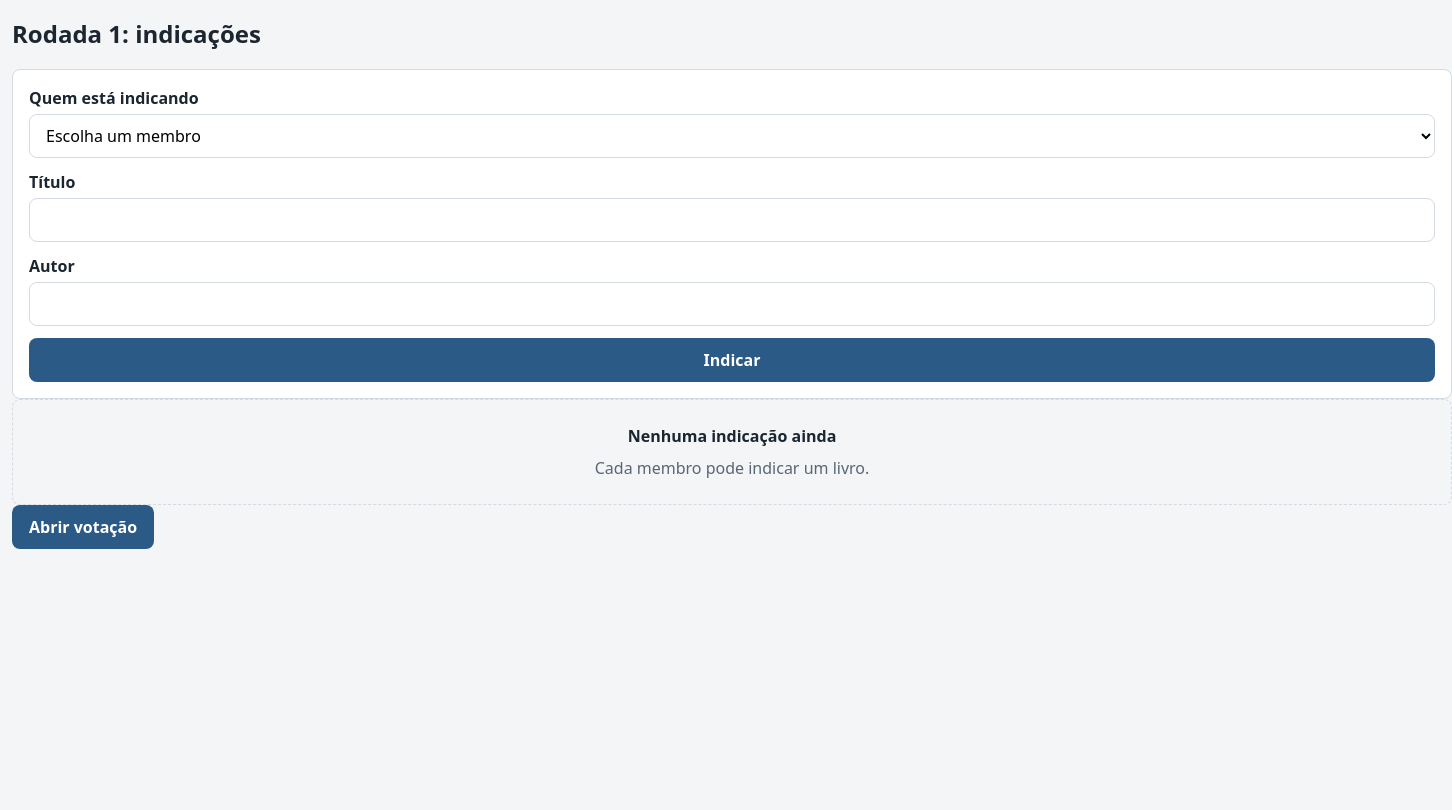
Scenario: NominationStep › pede para escolher quem está indicando
Step 1. Type "Dom Casmurro" into the field labelled "Título" → point(732, 220), box [29, 198, 1435, 242]
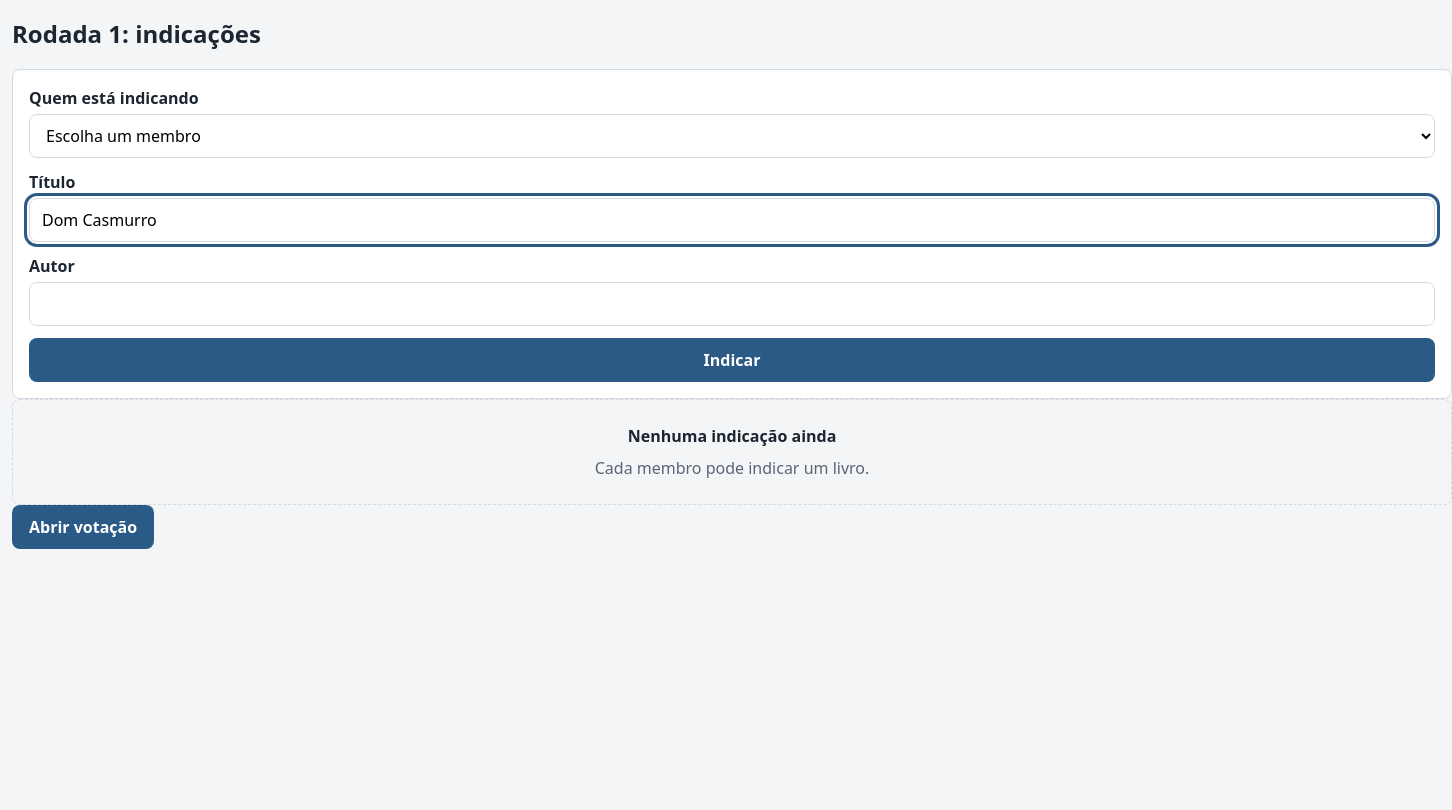
Step 2. Type "Machado de Assis" into the field labelled "Autor" → point(732, 304), box [29, 282, 1435, 326]
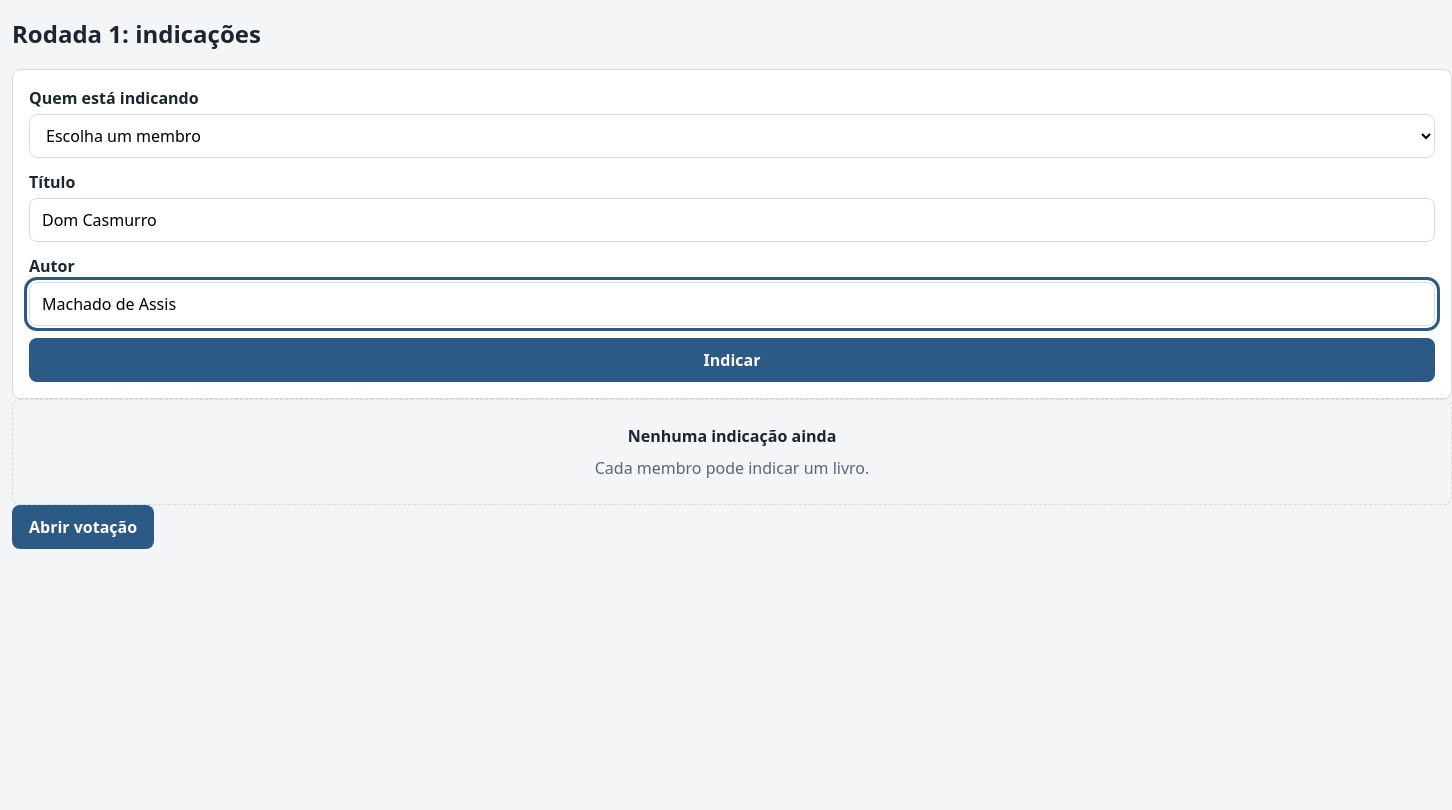
Step 3. Click the button "Indicar" → point(732, 360), box [29, 338, 1435, 382]
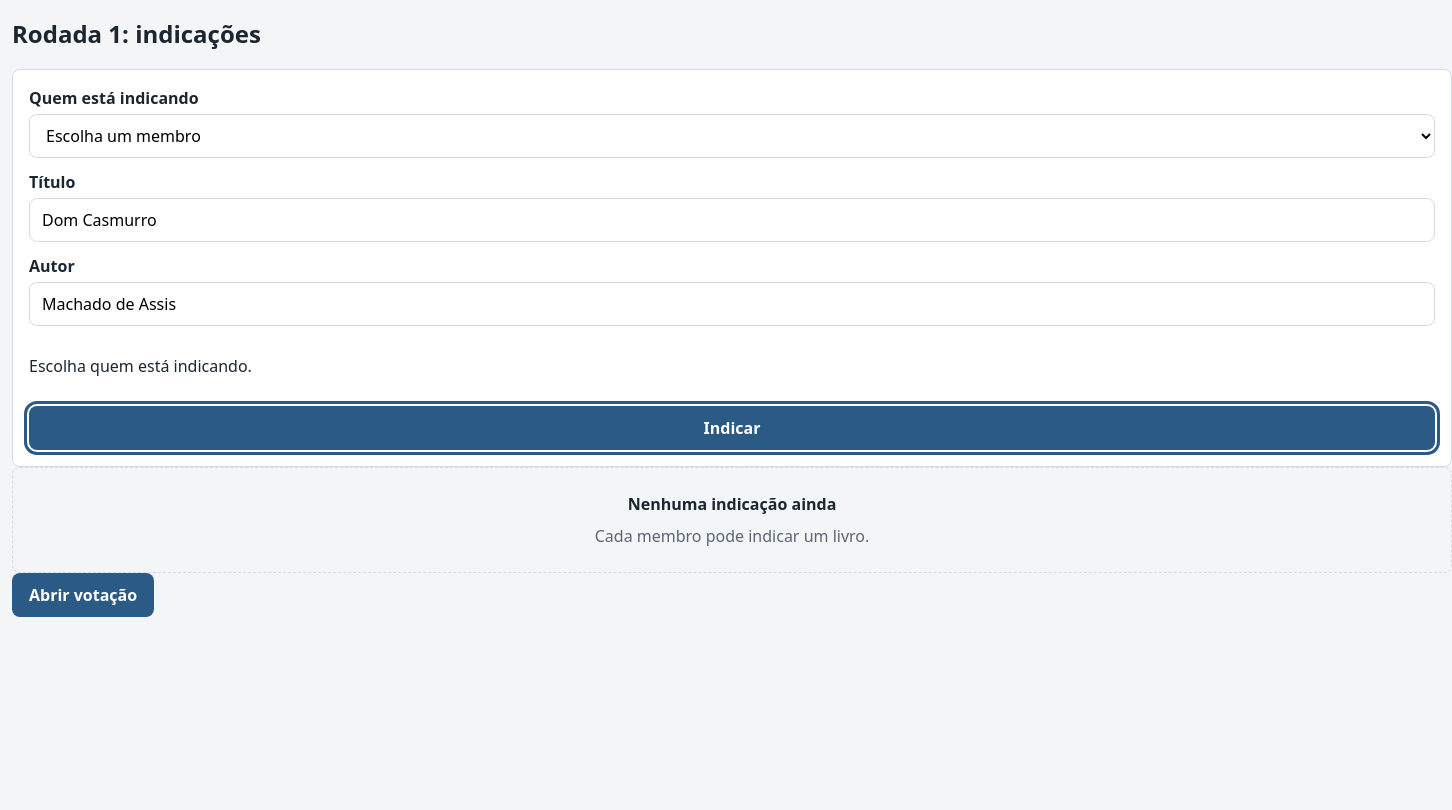
Now the message reads "Escolha quem está indicando.", box [29, 355, 252, 377]
